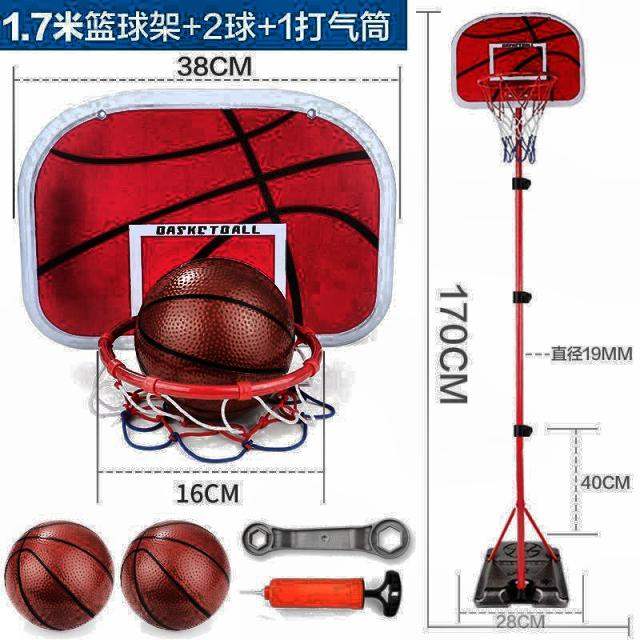board: (135, 257, 292, 423), (121, 518, 230, 631), (6, 521, 115, 630)
rim: (478, 77, 556, 163)
